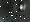person: (20, 3, 25, 13)
